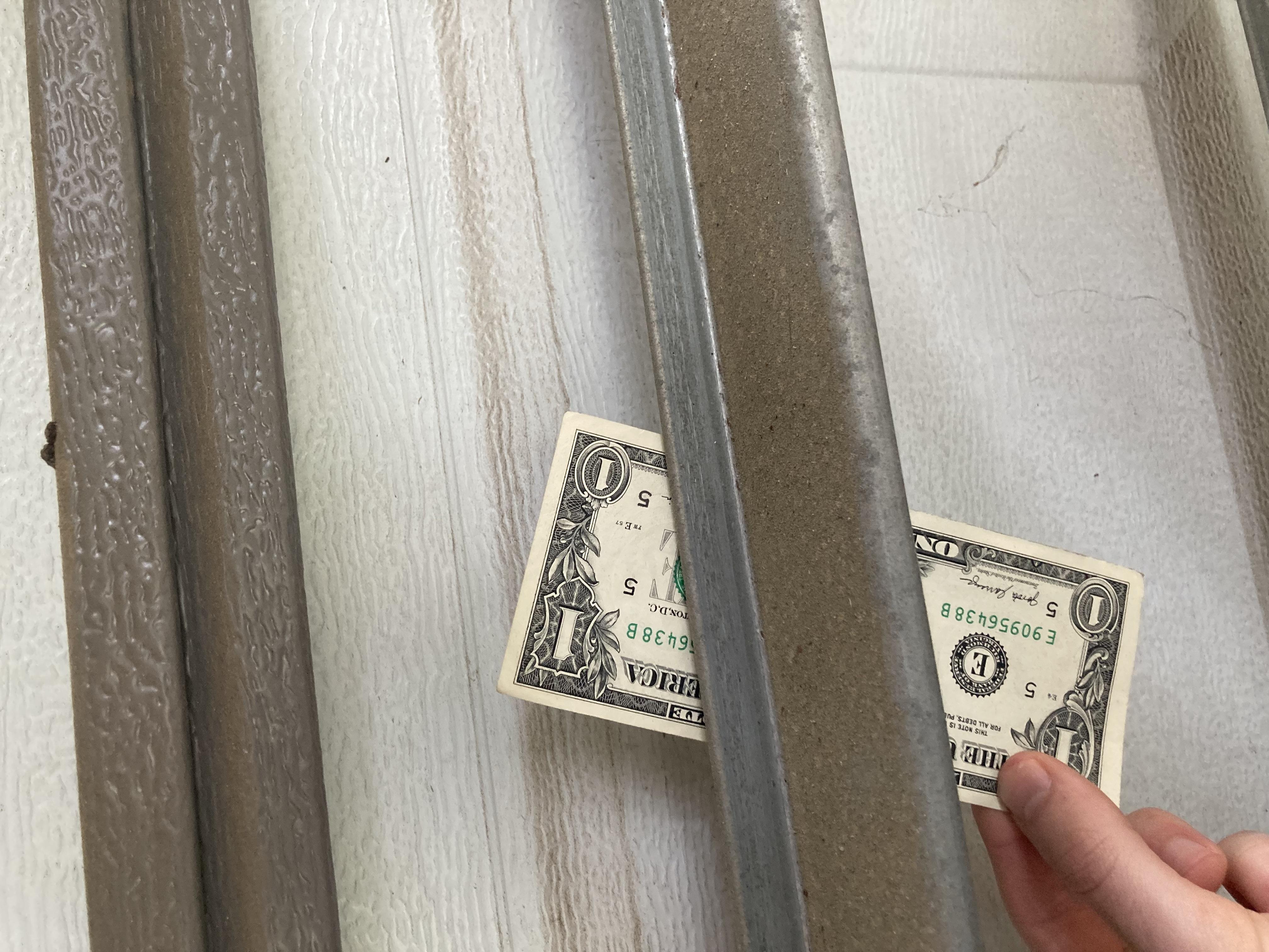one-front: (159, 371, 723, 862)
